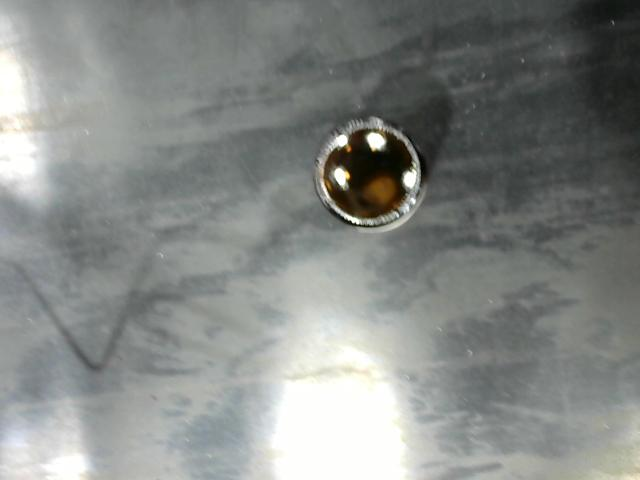glass: (312, 110, 428, 233)
